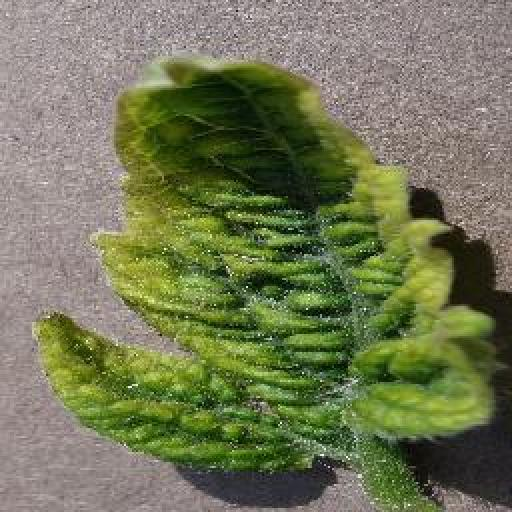Yellow Leaf Curl Virus: (31, 41, 506, 475)
